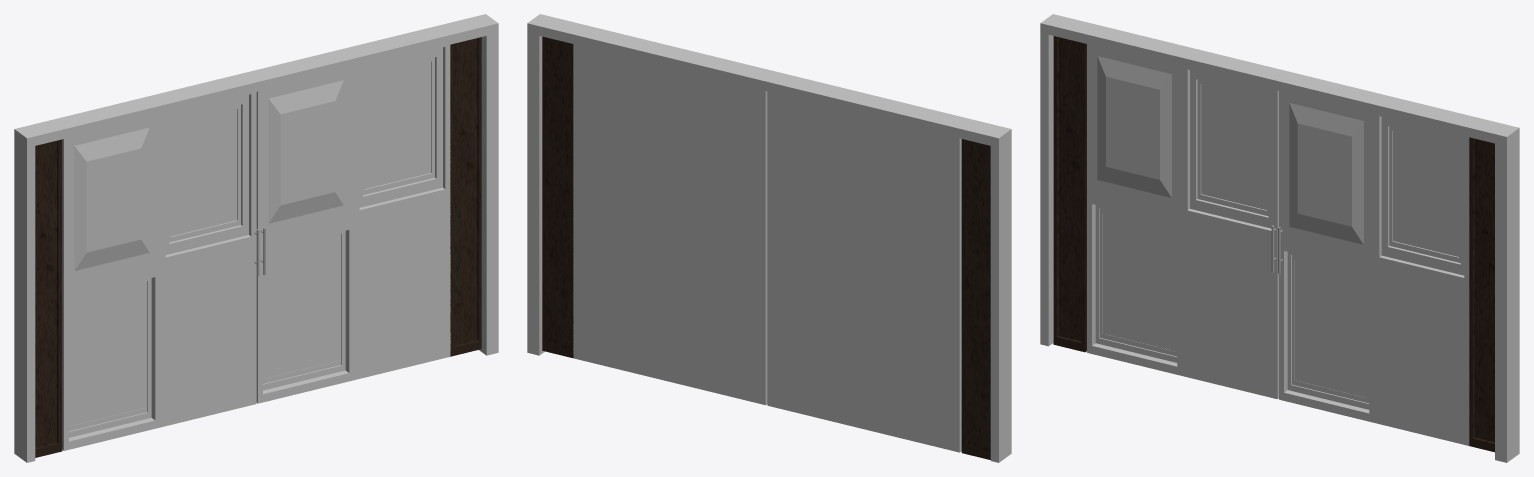
The model's file is Main manor door.fbx.
3 renders of one model, left to right at view 1: azimuth 30°, elevation 25°; view 2: azimuth 150°, elevation 25°; view 3: azimuth 330°, elevation 25°, orthographic.
Visible parts, largest first — view 1: pasted__pCube623, pasted__pCube619, pasted__pCube616, pasted__pasted__pCube622, pasted__pasted__pCube624; view 2: pasted__pCube623, pasted__pCube619, pasted__pCube616, pasted__pasted__pCube622, pasted__pasted__pCube624; view 3: pasted__pCube623, pasted__pCube619, pasted__pCube616, pasted__pasted__pCube624, pasted__pasted__pCube622.
Part boxes in pixels (bbox=[...]): pasted__pCube623: bbox=[62, 92, 256, 450]; pasted__pCube619: bbox=[256, 45, 450, 403]; pasted__pCube616: bbox=[14, 14, 498, 462]; pasted__pasted__pCube622: bbox=[450, 37, 481, 356]; pasted__pasted__pCube624: bbox=[35, 139, 62, 457]; pasted__pCube623: bbox=[767, 91, 961, 452]; pasted__pCube619: bbox=[573, 44, 767, 405]; pasted__pCube616: bbox=[527, 14, 1011, 462]; pasted__pasted__pCube622: bbox=[542, 36, 573, 357]; pasted__pasted__pCube624: bbox=[961, 139, 990, 459]; pasted__pCube623: bbox=[1087, 44, 1278, 399]; pasted__pCube619: bbox=[1279, 91, 1469, 445]; pasted__pCube616: bbox=[1040, 14, 1519, 462]; pasted__pasted__pCube624: bbox=[1053, 36, 1086, 352]; pasted__pasted__pCube622: bbox=[1469, 137, 1494, 452].
Size of the model in its own units: 514 by 343 by 24.01.
